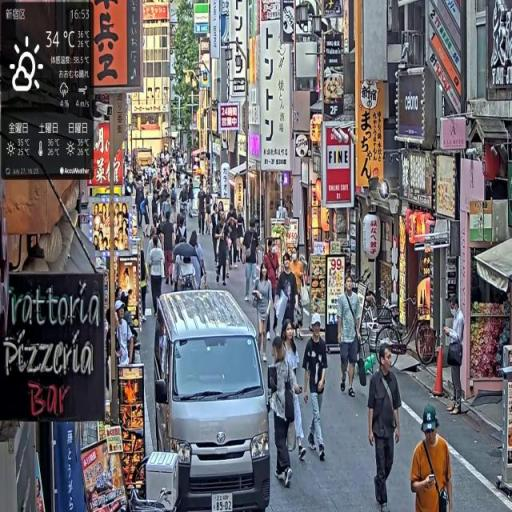person: (369, 342, 404, 512), (268, 336, 303, 489), (411, 404, 455, 512), (303, 316, 330, 463), (281, 322, 308, 463), (336, 276, 363, 399), (446, 295, 467, 418), (276, 254, 300, 347), (253, 261, 275, 357), (147, 233, 166, 318), (189, 231, 209, 292), (163, 212, 178, 287), (139, 239, 151, 323)
